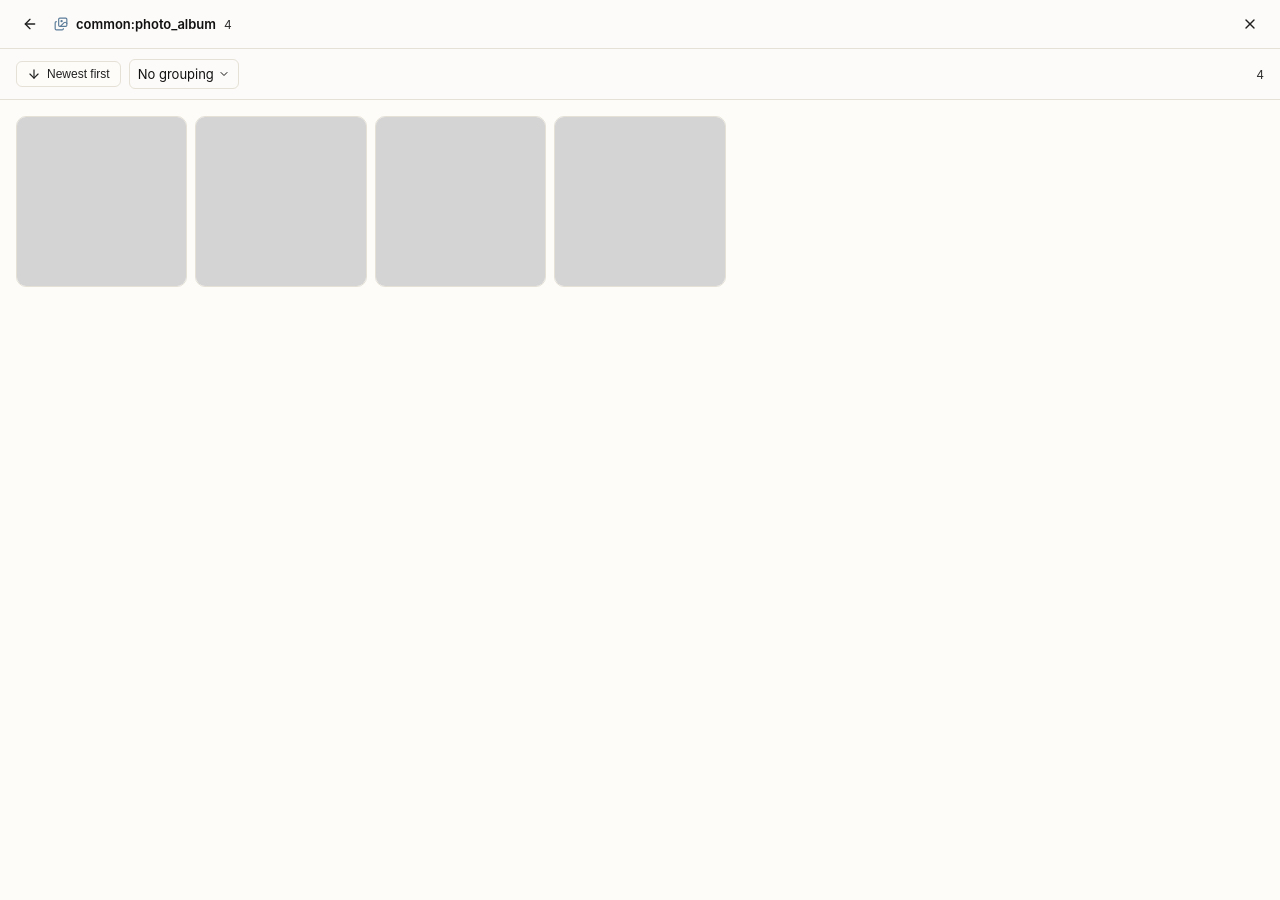
Test: PhotoAlbumOverlay › 按对象分组显示 页面→对象 两级结构（页面名 + 缩进对象名）
打开分组下拉并选择「按对象」
Click the button "No grouping".
click(184, 74)  # box [129, 59, 239, 89]
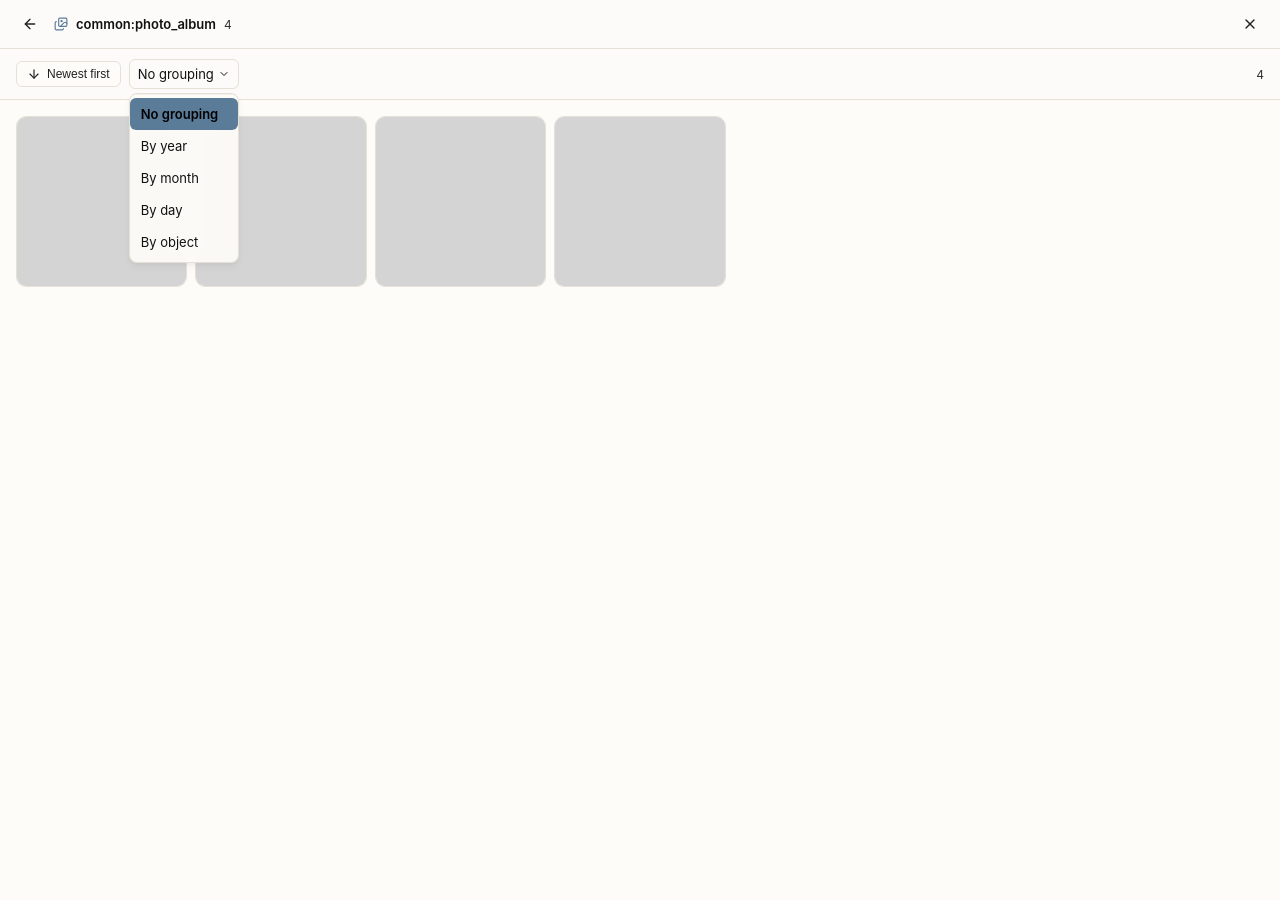
Click the button "By object".
click(184, 242)  # box [130, 226, 238, 258]
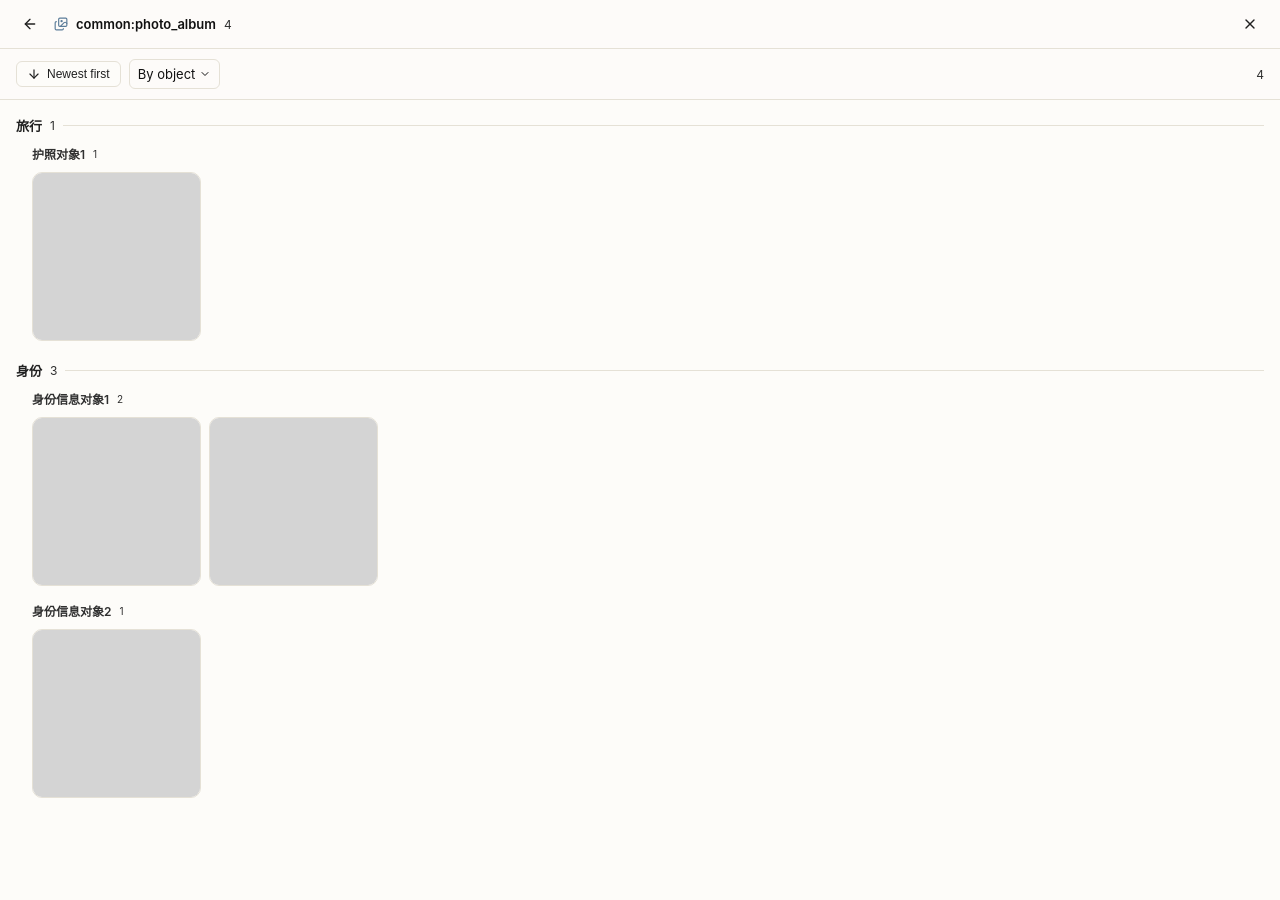
Result: the text "身份" is shown at [16, 361, 42, 380]
Result: the text "旅行" is shown at [16, 116, 42, 135]
Result: the text "身份信息对象1" is shown at [32, 390, 109, 407]
